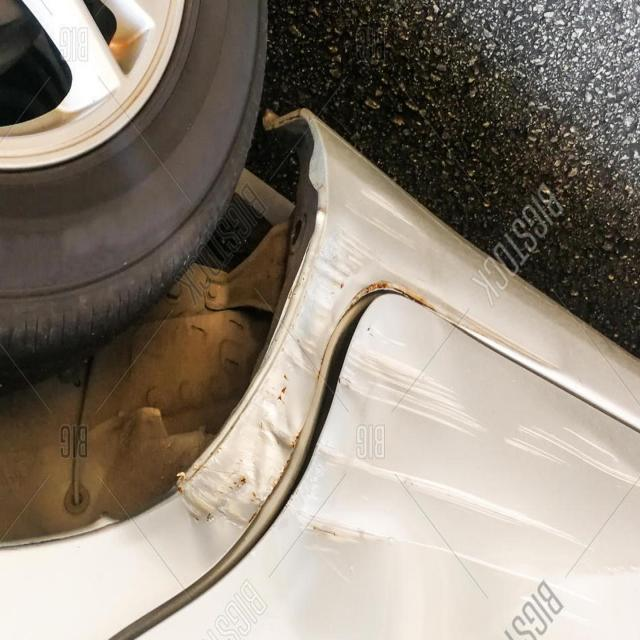dent: (156, 269, 408, 557)
